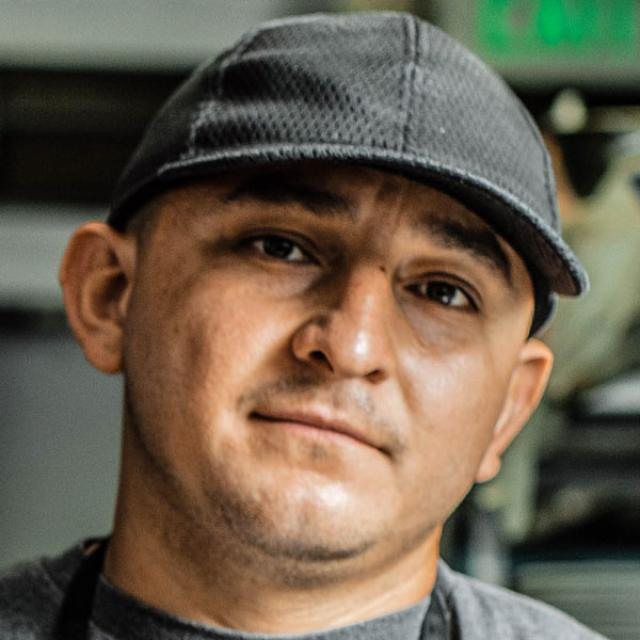face: (56, 15, 601, 568)
